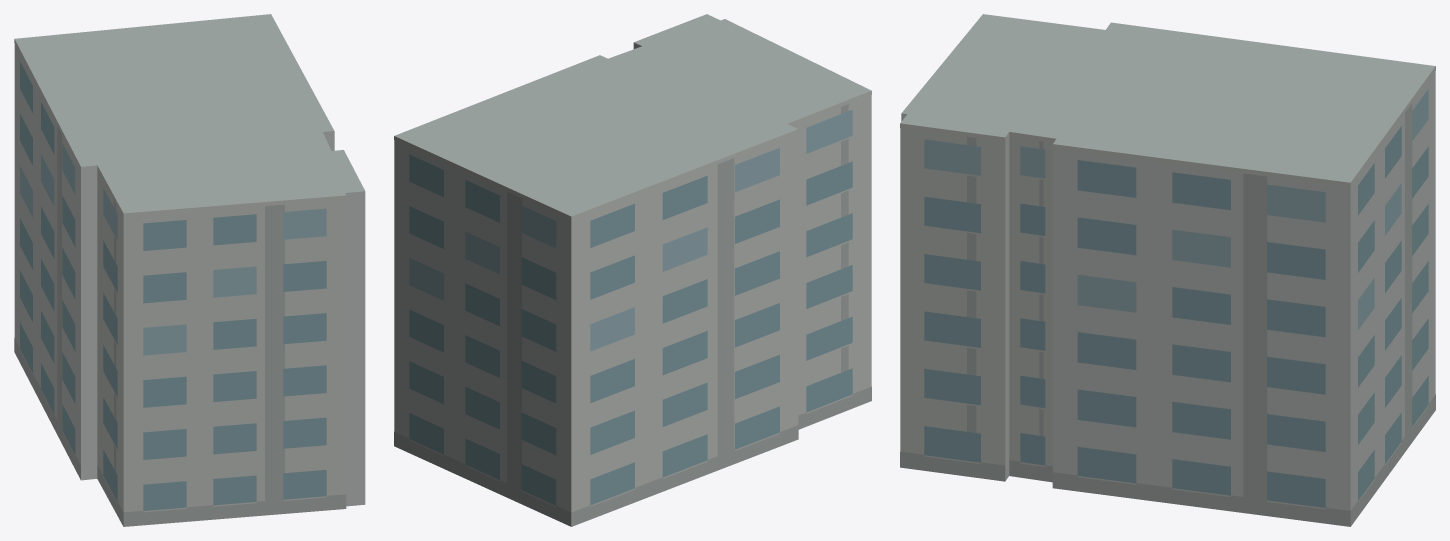
The model's file is survey-upis-32783977.glb.
3 views of the same model, side by side, from view 1: azimuth 30°, elevation 25°; view 2: azimuth 150°, elevation 25°; view 3: azimuth 270°, elevation 25° (orthographic). The views are drawn at different scales.
Visible parts, largest first — view 1: survey-upis-32783977.tmp; view 2: survey-upis-32783977.tmp; view 3: survey-upis-32783977.tmp.
Part boxes in pixels (<box>): survey-upis-32783977.tmp: <box>14,14,365,526</box>; survey-upis-32783977.tmp: <box>394,14,871,526</box>; survey-upis-32783977.tmp: <box>900,14,1435,526</box>.
Size of the model in its own units: 19.09 by 18.15 by 25.6.
